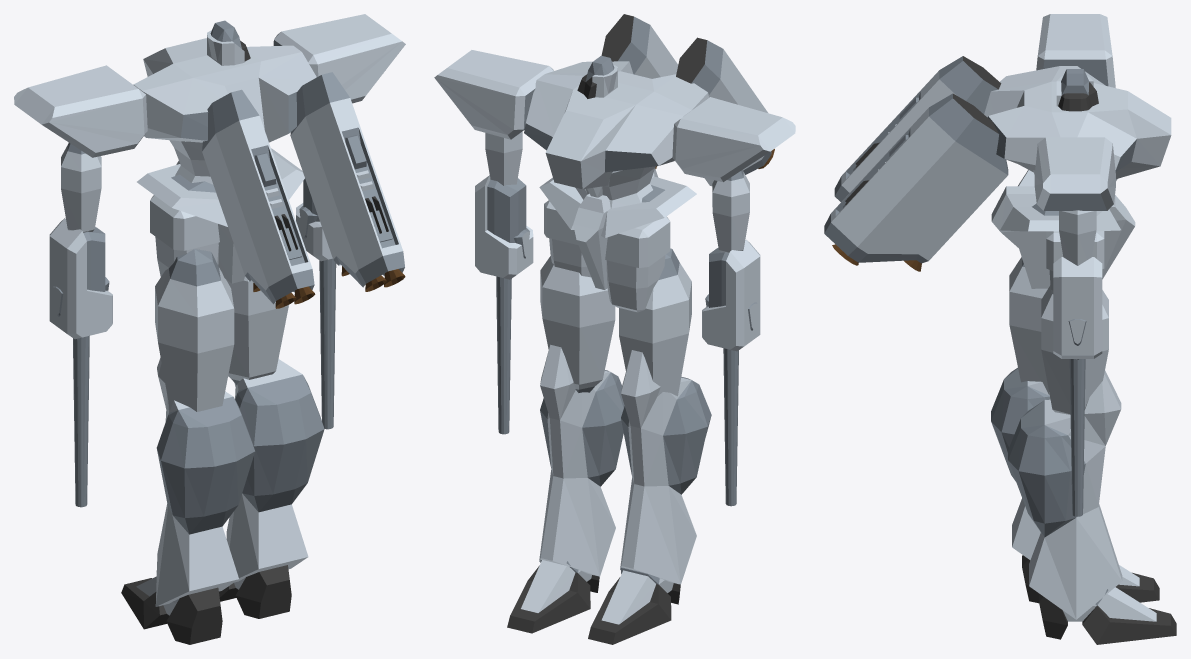
Rendered from tankdoutai.FBX.
3 views of the same model, side by side, from view 1: azimuth 30°, elevation 25°; view 2: azimuth 150°, elevation 25°; view 3: azimuth 270°, elevation 25° (orthographic). The views are drawn at different scales.
Parts seen in each view (by area): view 1: VIFS011, VIFS007, VIFS031, VIFS018, VIFS037, VIFS009, VIFS025, VIFS027, VIFS008, VIFS010, VIFS043, VIFS016 (+15 smaller); view 2: VIFS011, VIFS008, VIFS010, VIFS025, VIFS016, VIFS027, VIFS014, VIFS018, VIFS021, VIFS043, VIFS007, VIFS009 (+21 smaller); view 3: VIFS031, VIFS011, VIFS010, VIFS009, VIFS014, VIFS027, VIFS052, VIFS029, VIFS025, VIFS018, VIFS016, VIFS001 (+15 smaller).
Part boxes in pixels (x1,y1,x2,y2): VIFS011: (133,38,316,142); VIFS007: (156,396,255,534); VIFS031: (290,98,402,273); VIFS018: (155,268,234,411); VIFS037: (202,115,312,290); VIFS009: (235,374,324,512); VIFS025: (14,65,147,157); VIFS027: (274,14,405,103); VIFS008: (155,357,238,606); VIFS010: (226,359,308,582); VIFS043: (49,218,112,339); VIFS016: (226,276,288,380); VIFS011: (526,61,709,189); VIFS008: (620,350,696,584); VIFS010: (539,344,615,576); VIFS025: (672,97,795,182); VIFS016: (540,256,615,389); VIFS027: (434,50,553,139); VIFS014: (539,168,696,289); VIFS018: (619,263,691,396); VIFS021: (605,216,670,312); VIFS043: (702,239,760,351); VIFS007: (621,376,711,494); VIFS009: (540,370,624,486); VIFS031: (831,108,1007,260); VIFS011: (984,66,1171,178); VIFS010: (1029,370,1122,619); VIFS009: (1008,400,1085,537); VIFS014: (991,170,1135,288); VIFS027: (1034,137,1115,210); VIFS052: (1053,257,1102,358); VIFS029: (824,93,1008,263); VIFS025: (1036,14,1115,87); VIFS018: (1009,257,1049,394); VIFS016: (1041,285,1108,414); VIFS001: (1039,593,1176,644).
Bounding box in the file's own units: 0.5712 × 0.88 × 0.5178.
